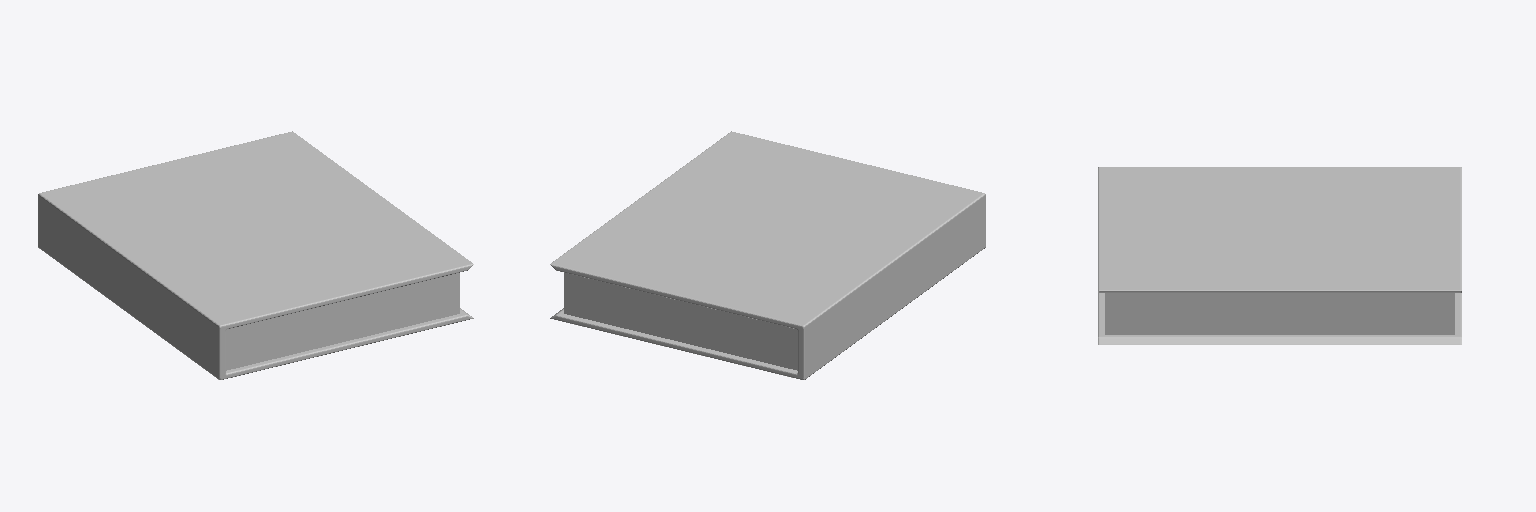
The picture shows the model from 3 angles: view 1: azimuth 30°, elevation 25°; view 2: azimuth 150°, elevation 25°; view 3: azimuth 270°, elevation 25°; orthographic projection.
Parts seen in each view (by area): view 1: surface, inner; view 2: surface, inner; view 3: surface, inner.
Boxes of the visible parts, box(x1,y1,x2,y2) form: surface: box(38, 131, 473, 379); inner: box(226, 273, 459, 370); surface: box(550, 131, 985, 379); inner: box(564, 273, 797, 370); surface: box(1098, 167, 1461, 344); inner: box(1105, 293, 1454, 334).
Size of the model in its own units: 162 by 33.3 by 200.